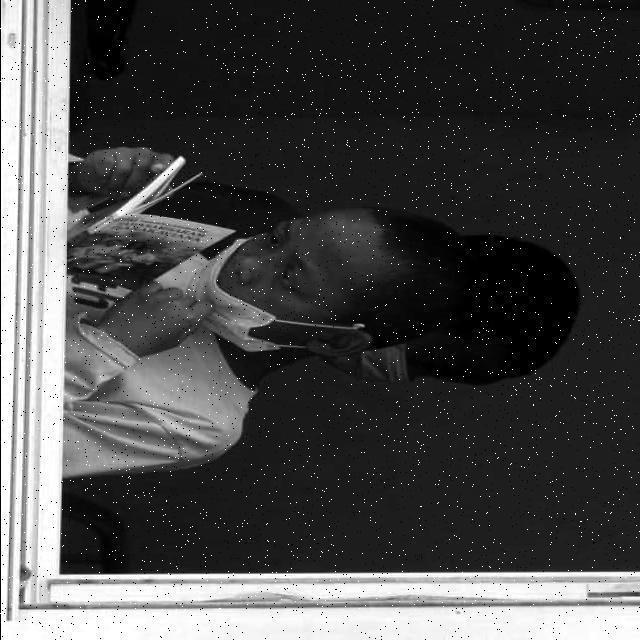mask: (357, 336, 418, 400)
no_apron: (109, 279, 203, 357), (83, 134, 156, 202)
no_gloves: (496, 230, 582, 370), (373, 192, 441, 322)
no_hairnet: (203, 233, 287, 353)
